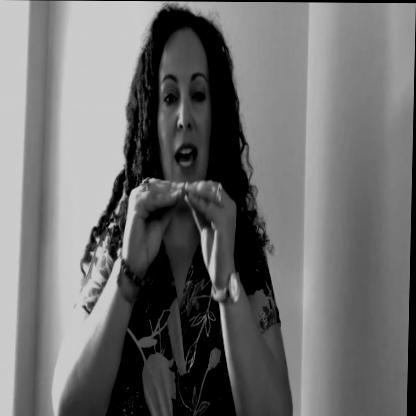Fix: (124, 171, 243, 322)
